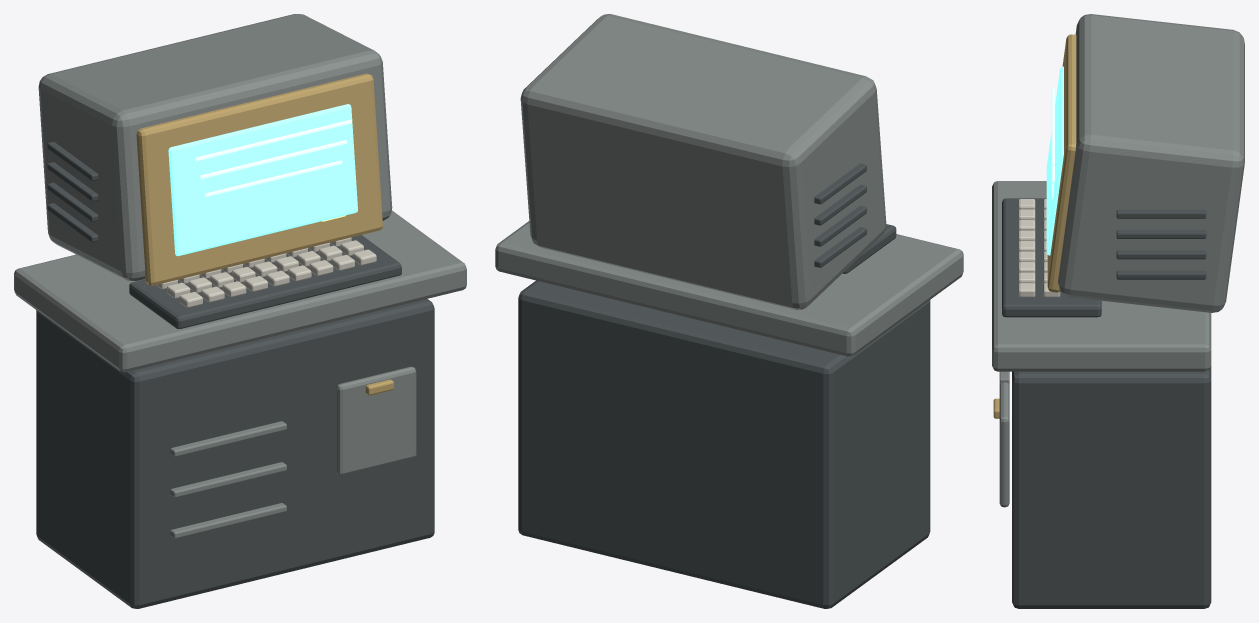
The model's file is terminal.glb.
3 renders of one model, left to right at view 1: azimuth 30°, elevation 25°; view 2: azimuth 150°, elevation 25°; view 3: azimuth 270°, elevation 25°, orthographic. The views are drawn at different scales.
Visible parts, largest first — view 1: terminal; view 2: terminal; view 3: terminal.
Boxes of the visible parts, <box> form: terminal: <box>14,14,466,608</box>; terminal: <box>495,14,963,608</box>; terminal: <box>992,14,1244,608</box>.
Size of the model in its own units: 0.8 by 1.03 by 0.5075.
